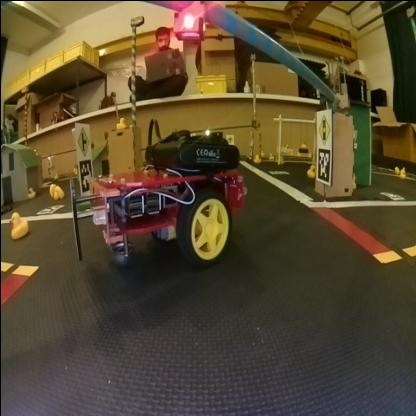Duckie: (9, 214, 27, 238), (52, 182, 62, 198), (27, 185, 35, 197), (114, 115, 124, 124), (306, 164, 313, 176), (254, 153, 260, 161), (399, 167, 404, 176), (267, 151, 273, 158), (392, 164, 396, 172)
Duckiebot: (68, 162, 242, 266)
Intersection sign: (76, 128, 88, 152)
QR code: (77, 158, 91, 190), (318, 147, 329, 181), (380, 187, 402, 200)
Signal sign: (315, 112, 330, 141)
Traffic light: (174, 6, 204, 40)
